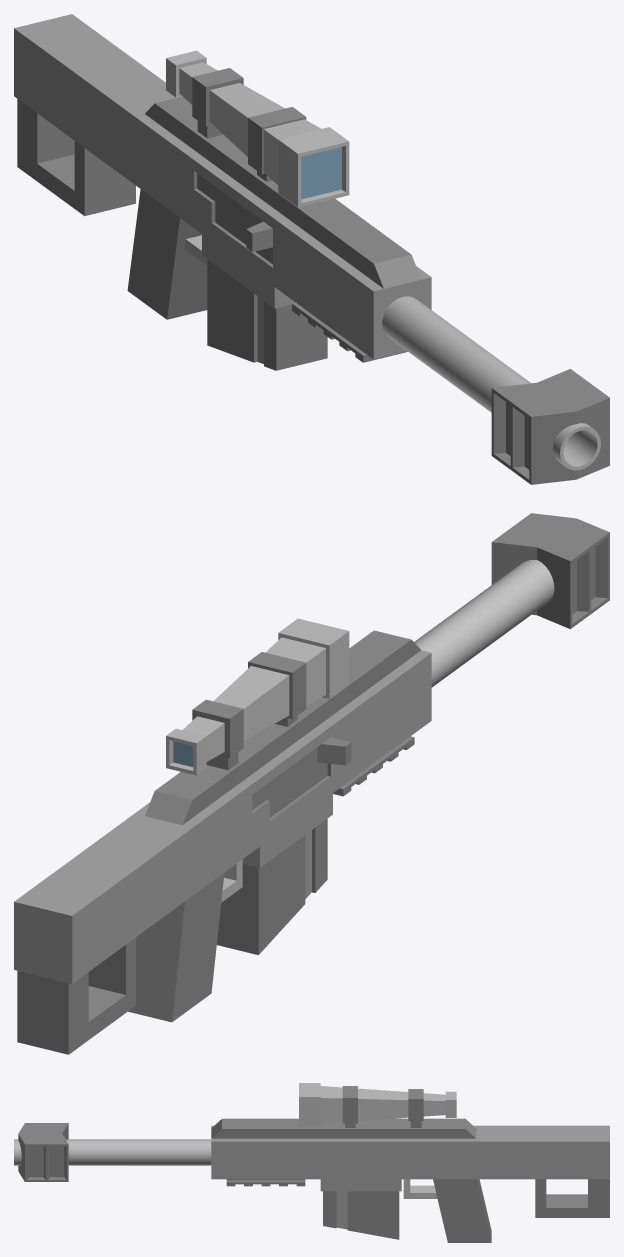
Rendered from sniper.glb.
3 renders of one model, top to bottom at view 1: azimuth 30°, elevation 25°; view 2: azimuth 150°, elevation 25°; view 3: azimuth 270°, elevation 25°, orthographic. The views are drawn at different scales.
Parts seen in each view (by area): view 1: Mesh4 Group5 Group1 Model, Mesh2 Group3 Group1 Model, Mesh1 Group2 Group1 Model, Mesh3 Group4 Group1 Model; view 2: Mesh4 Group5 Group1 Model, Mesh2 Group3 Group1 Model, Mesh3 Group4 Group1 Model, Mesh1 Group2 Group1 Model; view 3: Mesh4 Group5 Group1 Model, Mesh2 Group3 Group1 Model, Mesh1 Group2 Group1 Model.
Part boxes in pixels (x1=…): Mesh4 Group5 Group1 Model: x1=14, y1=14, x2=609, y2=484; Mesh2 Group3 Group1 Model: x1=207, y1=259, x2=327, y2=370; Mesh1 Group2 Group1 Model: x1=292, y1=302, x2=407, y2=362; Mesh3 Group4 Group1 Model: x1=246, y1=221, x2=272, y2=251; Mesh4 Group5 Group1 Model: x1=14, y1=513, x2=609, y2=1054; Mesh2 Group3 Group1 Model: x1=217, y1=819, x2=327, y2=954; Mesh3 Group4 Group1 Model: x1=317, y1=737, x2=351, y2=765; Mesh1 Group2 Group1 Model: x1=333, y1=736, x2=414, y2=796; Mesh4 Group5 Group1 Model: x1=14, y1=1083, x2=609, y2=1242; Mesh2 Group3 Group1 Model: x1=323, y1=1191, x2=399, y2=1239; Mesh1 Group2 Group1 Model: x1=226, y1=1179, x2=305, y2=1186.
Bounding box in the file's own units: 0.0156 × 0.0444 × 0.1632.
